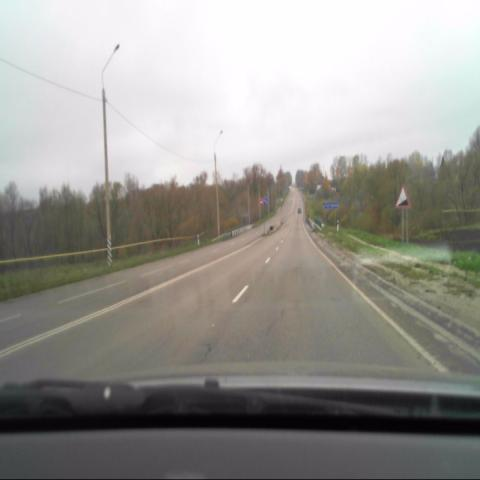1_14: (395, 186, 411, 209)
